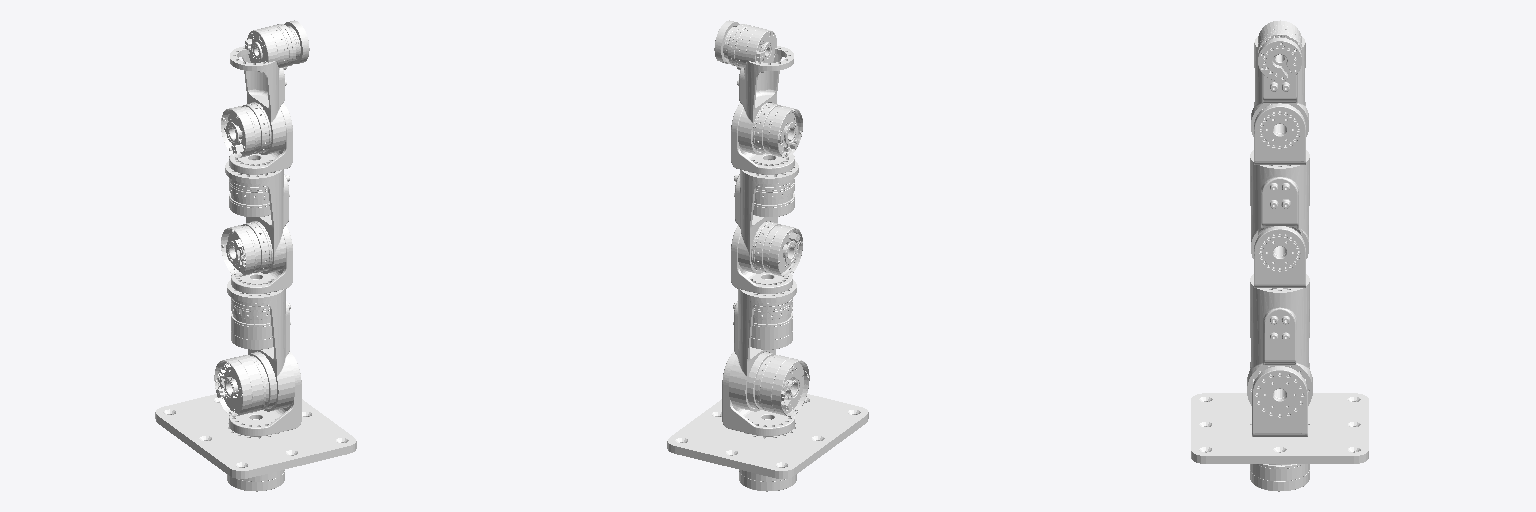
URDF robot description (manipulator):
<?xml version="1.0" encoding="utf-8" ?>
<!-- This URDF was automatically created by SolidWorks to URDF Exporter! Originally created by [author] ([email redacted]) 
     Commit Version: 1.6.0-4-g7f85cfe  Build Version: 1.6.7995.38578
     For more information, please see http://wiki.ros.org/sw_urdf_exporter -->
<robot name="manipulator">
    <link name="base_link">
        <inertial>
            <origin xyz="-1.3252E-19 1.3599E-17 -0.0059926" rpy="0 0 0" />
            <mass value="0.51184" />
            <inertia ixx="0.002628" ixy="-7.0726E-20" ixz="2.275E-21" iyy="0.0018259" iyz="-5.9169E-21" izz="0.0044418" />
        </inertial>
        <visual>
            <origin xyz="0 0 0" rpy="0 0 0" />
            <geometry>
                <mesh filename="package://manipulator/meshes/base_link.STL" />
            </geometry>
            <material name="">
                <color rgba="1 1 1 1" />
            </material>
        </visual>
        <collision>
            <origin xyz="0 0 0" rpy="0 0 0" />
            <geometry>
                <mesh filename="package://manipulator/meshes/base_link.STL" />
            </geometry>
        </collision>
    </link>
    <link name="link1">
        <inertial>
            <origin xyz="0.030386 -1.2709E-10 -0.037371" rpy="0 0 0" />
            <mass value="0.11922" />
            <inertia ixx="0.00015227" ixy="-1.8986E-13" ixz="-4.0067E-05" iyy="0.000158" iyz="-1.9941E-13" izz="0.00012545" />
        </inertial>
        <visual>
            <origin xyz="0 0 0" rpy="0 0 0" />
            <geometry>
                <mesh filename="package://manipulator/meshes/link1.STL" />
            </geometry>
            <material name="">
                <color rgba="1 1 1 1" />
            </material>
        </visual>
        <collision>
            <origin xyz="0 0 0" rpy="0 0 0" />
            <geometry>
                <mesh filename="package://manipulator/meshes/link1.STL" />
            </geometry>
        </collision>
    </link>
    <joint name="joint1" type="revolute">
        <origin xyz="0 0 0.068" rpy="0 0 0" />
        <parent link="base_link" />
        <child link="link1" />
        <axis xyz="0 0 1" />
        <limit lower="-3.14" upper="3.14" effort="1000" velocity="1000" />
    </joint>
    <link name="link2">
        <inertial>
            <origin xyz="0.06725 7.8023E-07 -0.023323" rpy="0 0 0" />
            <mass value="0.13979" />
            <inertia ixx="0.00012945" ixy="-5.6227E-09" ixz="-3.4182E-05" iyy="0.00046719" iyz="-3.553E-09" izz="0.00052505" />
        </inertial>
        <visual>
            <origin xyz="0 0 0" rpy="0 0 0" />
            <geometry>
                <mesh filename="package://manipulator/meshes/link2.STL" />
            </geometry>
            <material name="">
                <color rgba="1 1 1 1" />
            </material>
        </visual>
        <collision>
            <origin xyz="0 0 0" rpy="0 0 0" />
            <geometry>
                <mesh filename="package://manipulator/meshes/link2.STL" />
            </geometry>
        </collision>
    </link>
    <joint name="joint2" type="revolute">
        <origin xyz="0.0005 0 0" rpy="0 -1.5708 0" />
        <parent link="link1" />
        <child link="link2" />
        <axis xyz="0 0 1" />
        <limit lower="-1.55" upper="1.55" effort="1000" velocity="1000" />
    </joint>
    <link name="link3">
        <inertial>
            <origin xyz="0.020827 4.4786E-09 -0.029773" rpy="0 0 0" />
            <mass value="0.084191" />
            <inertia ixx="9.0528E-05" ixy="5.8868E-13" ixz="-2.2221E-05" iyy="8.6433E-05" iyz="7.3347E-12" izz="6.8122E-05" />
        </inertial>
        <visual>
            <origin xyz="0 0 0" rpy="0 0 0" />
            <geometry>
                <mesh filename="package://manipulator/meshes/link3.STL" />
            </geometry>
            <material name="">
                <color rgba="1 1 1 1" />
            </material>
        </visual>
        <collision>
            <origin xyz="0 0 0" rpy="0 0 0" />
            <geometry>
                <mesh filename="package://manipulator/meshes/link3.STL" />
            </geometry>
        </collision>
    </link>
    <joint name="joint3" type="revolute">
        <origin xyz="0.206 0 0" rpy="0 1.5708 0" />
        <parent link="link2" />
        <child link="link3" />
        <axis xyz="0 0 1" />
        <limit lower="-3.14" upper="3.14" effort="1000" velocity="1000" />
    </joint>
    <link name="link4">
        <inertial>
            <origin xyz="0.060448 -2.029E-06 -0.021637" rpy="0 0 0" />
            <mass value="0.12668" />
            <inertia ixx="0.00010883" ixy="-4.5086E-09" ixz="-1.4983E-05" iyy="0.000282" iyz="1.4197E-09" izz="0.00032325" />
        </inertial>
        <visual>
            <origin xyz="0 0 0" rpy="0 0 0" />
            <geometry>
                <mesh filename="package://manipulator/meshes/link4.STL" />
            </geometry>
            <material name="">
                <color rgba="1 1 1 1" />
            </material>
        </visual>
        <collision>
            <origin xyz="0 0 0" rpy="0 0 0" />
            <geometry>
                <mesh filename="package://manipulator/meshes/link4.STL" />
            </geometry>
        </collision>
    </link>
    <joint name="joint4" type="revolute">
        <origin xyz="-0.003 0 0" rpy="0 -1.5708 0" />
        <parent link="link3" />
        <child link="link4" />
        <axis xyz="0 0 1" />
        <limit lower="-1.55" upper="1.55" effort="1000" velocity="1000" />
    </joint>
    <link name="link5">
        <inertial>
            <origin xyz="0.022751 -2.3087E-06 -0.029741" rpy="0 0 0" />
            <mass value="0.085932" />
            <inertia ixx="9.0587E-05" ixy="1.1198E-12" ixz="-2.3383E-05" iyy="8.9687E-05" iyz="9.2463E-16" izz="7.2974E-05" />
        </inertial>
        <visual>
            <origin xyz="0 0 0" rpy="0 0 0" />
            <geometry>
                <mesh filename="package://manipulator/meshes/link5.STL" />
            </geometry>
            <material name="">
                <color rgba="1 1 1 1" />
            </material>
        </visual>
        <collision>
            <origin xyz="0 0 0" rpy="0 0 0" />
            <geometry>
                <mesh filename="package://manipulator/meshes/link5.STL" />
            </geometry>
        </collision>
    </link>
    <joint name="joint5" type="revolute">
        <origin xyz="0.182 0 0" rpy="0 1.5708 0" />
        <parent link="link4" />
        <child link="link5" />
        <axis xyz="0 0 1" />
        <limit lower="-3.14" upper="3.14" effort="1000" velocity="1000" />
    </joint>
    <link name="link6">
        <inertial>
            <origin xyz="0.050634 2.0202E-06 -0.019016" rpy="0 0 0" />
            <mass value="0.091478" />
            <inertia ixx="6.4629E-05" ixy="6.6911E-10" ixz="-1.1104E-05" iyy="0.00019323" iyz="-1.2896E-10" izz="0.00022002" />
        </inertial>
        <visual>
            <origin xyz="0 0 0" rpy="0 0 0" />
            <geometry>
                <mesh filename="package://manipulator/meshes/link6.STL" />
            </geometry>
            <material name="">
                <color rgba="1 1 1 1" />
            </material>
        </visual>
        <collision>
            <origin xyz="0 0 0" rpy="0 0 0" />
            <geometry>
                <mesh filename="package://manipulator/meshes/link6.STL" />
            </geometry>
        </collision>
    </link>
    <joint name="joint6" type="revolute">
        <origin xyz="0 0 0" rpy="0 -1.5708 0" />
        <parent link="link5" />
        <child link="link6" />
        <axis xyz="0 0 1" />
        <limit lower="-1.55" upper="1.55" effort="1000" velocity="1000" />
    </joint>
    <link name="link7">
        <inertial>
            <origin xyz="4.1157E-05 7.5281E-05 0.023371" rpy="0 0 0" />
            <mass value="0.19202" />
            <inertia ixx="6.5362E-05" ixy="-3.5129E-08" ixz="8.2062E-08" iyy="6.5748E-05" iyz="1.4861E-07" izz="0.00011035" />
        </inertial>
        <visual>
            <origin xyz="0 0 0" rpy="0 0 0" />
            <geometry>
                <mesh filename="package://manipulator/meshes/link7.STL" />
            </geometry>
            <material name="">
                <color rgba="1 1 1 1" />
            </material>
        </visual>
        <collision>
            <origin xyz="0 0 0" rpy="0 0 0" />
            <geometry>
                <mesh filename="package://manipulator/meshes/link7.STL" />
            </geometry>
        </collision>
    </link>
    <joint name="joint7" type="revolute">
        <origin xyz="0.1161 0 0" rpy="0 1.5708 0" />
        <parent link="link6" />
        <child link="link7" />
        <axis xyz="0 0 1" />
        <limit lower="-3.14" upper="3.14" effort="1000" velocity="1000" />
    </joint>
    <transmission name="trans_joint1">
        <type>transmission_interface/SimpleTransmission</type>
        <joint name="joint1">
            <hardwareInterface>hardware_interface/EffortJointInterface</hardwareInterface>
        </joint>
        <actuator name="joint1_motor">
            <hardwareInterface>hardware_interface/EffortJointInterface</hardwareInterface>
            <mechanicalReduction>1</mechanicalReduction>
        </actuator>
    </transmission>
    <transmission name="trans_joint2">
        <type>transmission_interface/SimpleTransmission</type>
        <joint name="joint2">
            <hardwareInterface>hardware_interface/EffortJointInterface</hardwareInterface>
        </joint>
        <actuator name="joint2_motor">
            <hardwareInterface>hardware_interface/EffortJointInterface</hardwareInterface>
            <mechanicalReduction>1</mechanicalReduction>
        </actuator>
    </transmission>
    <transmission name="trans_joint3">
        <type>transmission_interface/SimpleTransmission</type>
        <joint name="joint3">
            <hardwareInterface>hardware_interface/EffortJointInterface</hardwareInterface>
        </joint>
        <actuator name="joint3_motor">
            <hardwareInterface>hardware_interface/EffortJointInterface</hardwareInterface>
            <mechanicalReduction>1</mechanicalReduction>
        </actuator>
    </transmission>
    <transmission name="trans_joint4">
        <type>transmission_interface/SimpleTransmission</type>
        <joint name="joint4">
            <hardwareInterface>hardware_interface/EffortJointInterface</hardwareInterface>
        </joint>
        <actuator name="joint4_motor">
            <hardwareInterface>hardware_interface/EffortJointInterface</hardwareInterface>
            <mechanicalReduction>1</mechanicalReduction>
        </actuator>
    </transmission>
    <transmission name="trans_joint5">
        <type>transmission_interface/SimpleTransmission</type>
        <joint name="joint5">
            <hardwareInterface>hardware_interface/EffortJointInterface</hardwareInterface>
        </joint>
        <actuator name="joint5_motor">
            <hardwareInterface>hardware_interface/EffortJointInterface</hardwareInterface>
            <mechanicalReduction>1</mechanicalReduction>
        </actuator>
    </transmission>
    <transmission name="trans_joint6">
        <type>transmission_interface/SimpleTransmission</type>
        <joint name="joint6">
            <hardwareInterface>hardware_interface/EffortJointInterface</hardwareInterface>
        </joint>
        <actuator name="joint6_motor">
            <hardwareInterface>hardware_interface/EffortJointInterface</hardwareInterface>
            <mechanicalReduction>1</mechanicalReduction>
        </actuator>
    </transmission>
    <transmission name="trans_joint7">
        <type>transmission_interface/SimpleTransmission</type>
        <joint name="joint7">
            <hardwareInterface>hardware_interface/EffortJointInterface</hardwareInterface>
        </joint>
        <actuator name="joint7_motor">
            <hardwareInterface>hardware_interface/EffortJointInterface</hardwareInterface>
            <mechanicalReduction>1</mechanicalReduction>
        </actuator>
    </transmission>
    <gazebo>
        <plugin name="gazebo_ros_control" filename="libgazebo_ros_control.so">
            <robotNamespace>/</robotNamespace>
        </plugin>
    </gazebo>
</robot>

--- Facts derived from the render (not from the file) ---
The picture shows the robot from 3 angles, left to right: view 1: azimuth 30°, elevation 25°; view 2: azimuth 150°, elevation 25°; view 3: azimuth 270°, elevation 25°; orthographic projection.
Model manipulator with 8 links and 7 joints (7 revolute), rooted at base_link, posed all joints at 0.
Visible links, largest first — view 1: base_link, link2, link6, link4, link3, link5, link1, link7; view 2: base_link, link2, link6, link4, link3, link5, link1, link7; view 3: base_link, link2, link1, link4, link3, link5, link7, link6.
Boxes of the visible links, box(x1,y1,x2,y2) form: base_link: box(155, 394, 356, 478); link2: box(214, 280, 294, 416); link6: box(221, 46, 286, 157); link4: box(221, 161, 289, 276); link3: box(231, 226, 292, 349); link5: box(229, 103, 292, 216); link1: box(227, 352, 301, 491); link7: box(245, 20, 309, 72); base_link: box(667, 394, 868, 478); link2: box(729, 280, 809, 416); link6: box(737, 46, 802, 157); link4: box(734, 161, 802, 276); link3: box(731, 226, 792, 349); link5: box(731, 103, 794, 216); link1: box(722, 352, 796, 491); link7: box(714, 20, 776, 72); base_link: box(1191, 393, 1368, 463); link2: box(1247, 274, 1312, 412); link1: box(1250, 366, 1309, 491); link4: box(1250, 150, 1309, 258); link3: box(1254, 226, 1305, 288); link5: box(1254, 103, 1305, 164); link7: box(1258, 20, 1301, 80); link6: box(1251, 37, 1308, 145).
Size in the robot's own frame: 0.2 by 0.24 by 0.6871 metres.
Meshes: 8 distinct files referenced, 8 mesh visuals loaded (8 binary STL).